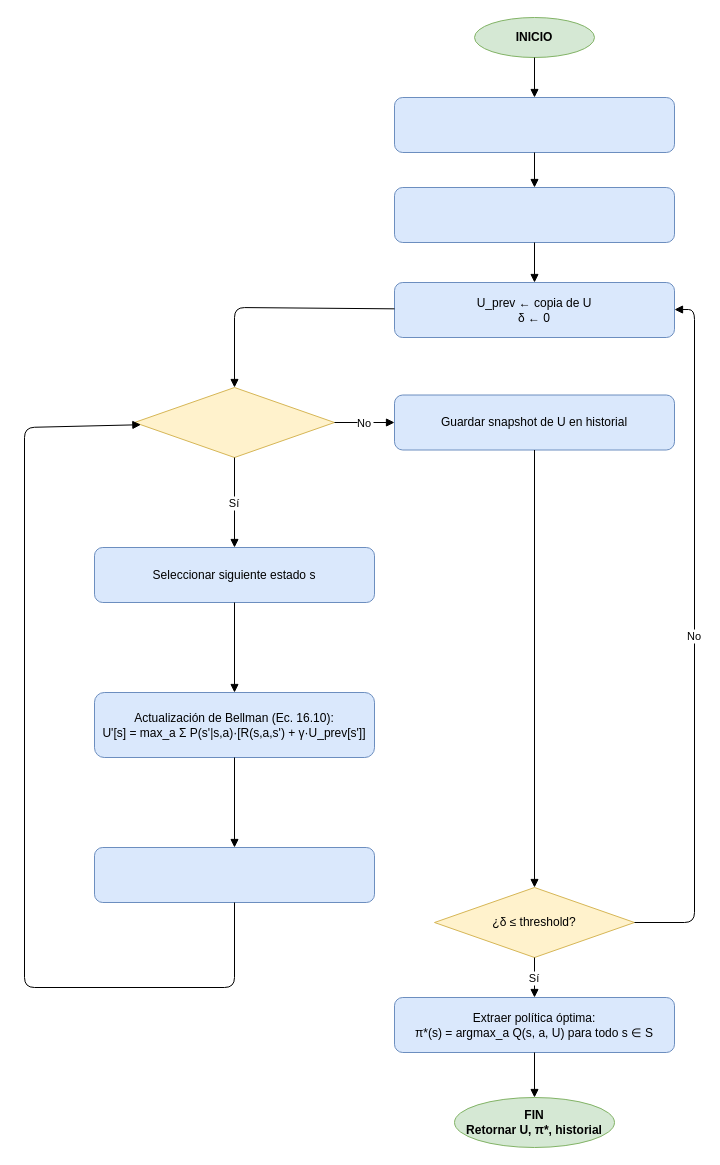
This 720x1165 diagram has some shape labels left out. The centre of each missing label's shape, as x and y in pixels:
"Calcular umbral de convergencia: threshold = ε · (1 − γ) / γ (Ec. 16.12)" goes at [534,214].
"Inicializar U[s] = 0 para todo s ∈ S historial = []" goes at [534,124].
"¿Quedan estados sin actualizar?" goes at [234,422].
"δ ← max(δ, |U[s] − U_prev[s]|)" goes at [234,874].
